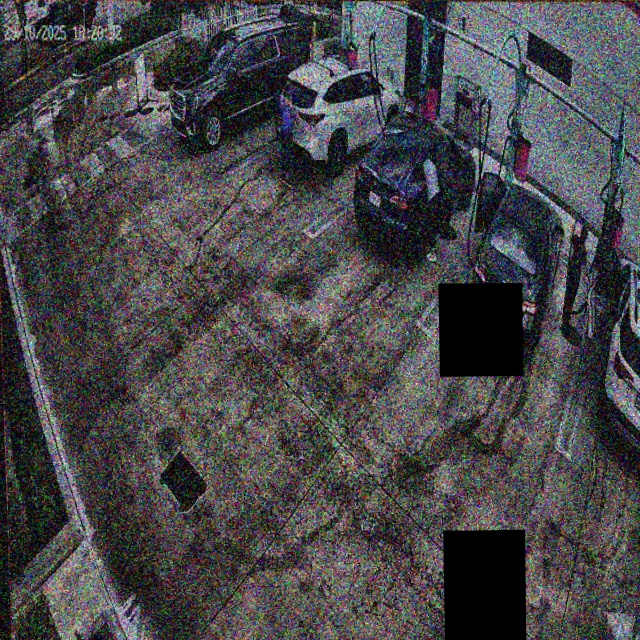Car: (353, 107, 475, 254), (475, 173, 565, 347), (277, 57, 402, 171)
